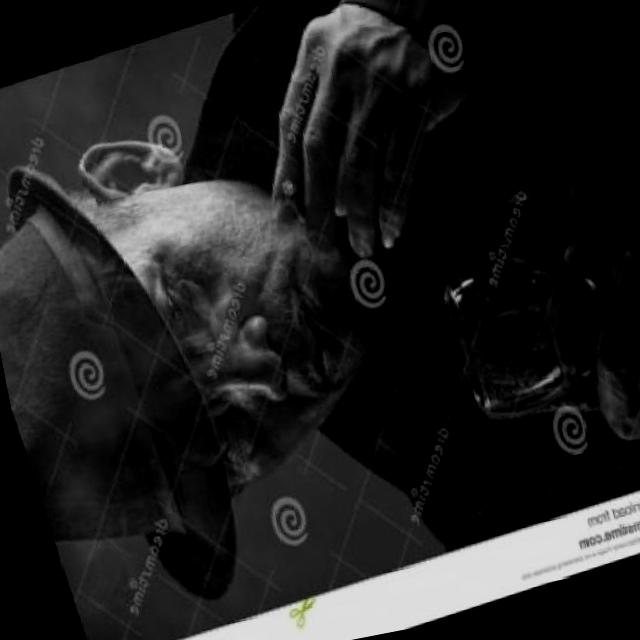smoke: (276, 168, 324, 235)
